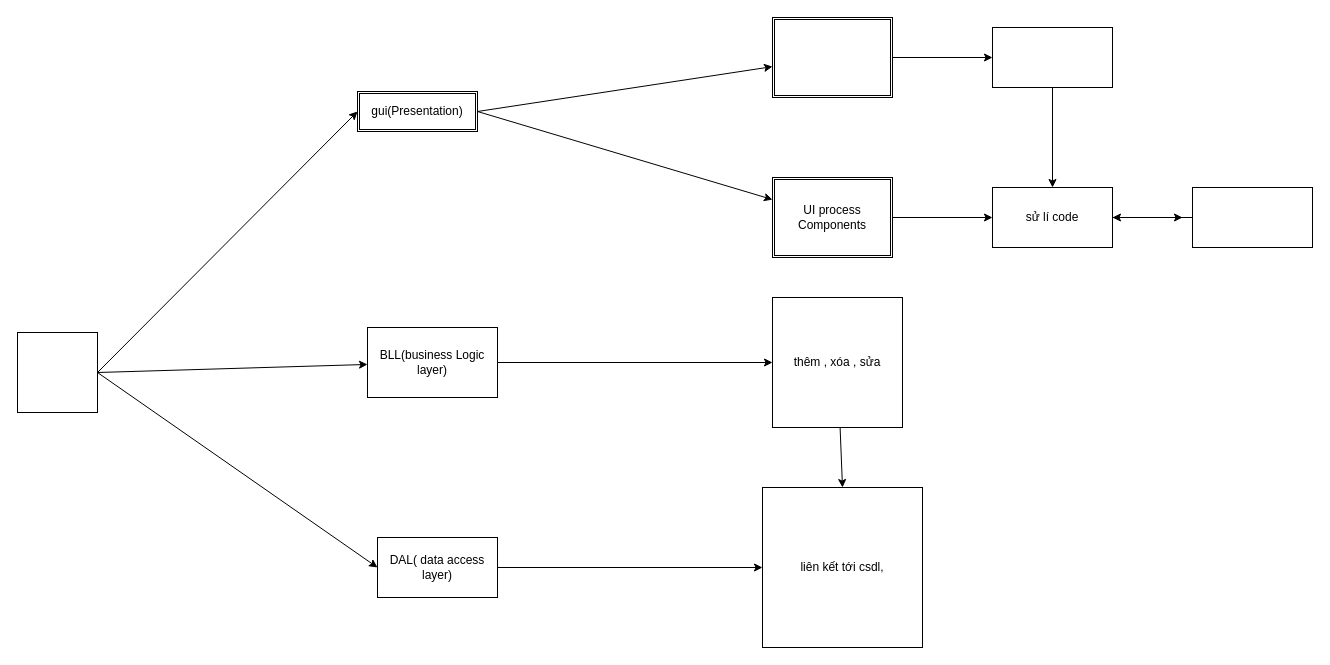
The diagram is 1330 pixels wide and 665 high, and some of its shapes have lost their labels. Here are the shapes that lost their labels. From the top down, the centre of each, then its label:
At [832,57]: "UI componets".
At [1052,57]: "là các icon".
At [1252,217]: "hiển thị màn hình".
At [57,372]: "three layer (mô hình 3 /lớp) MVC".
